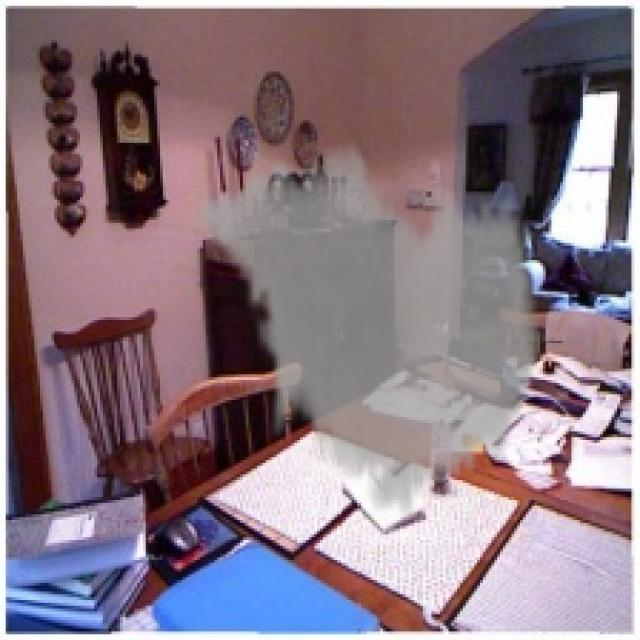Smoke: (194, 131, 546, 526)
